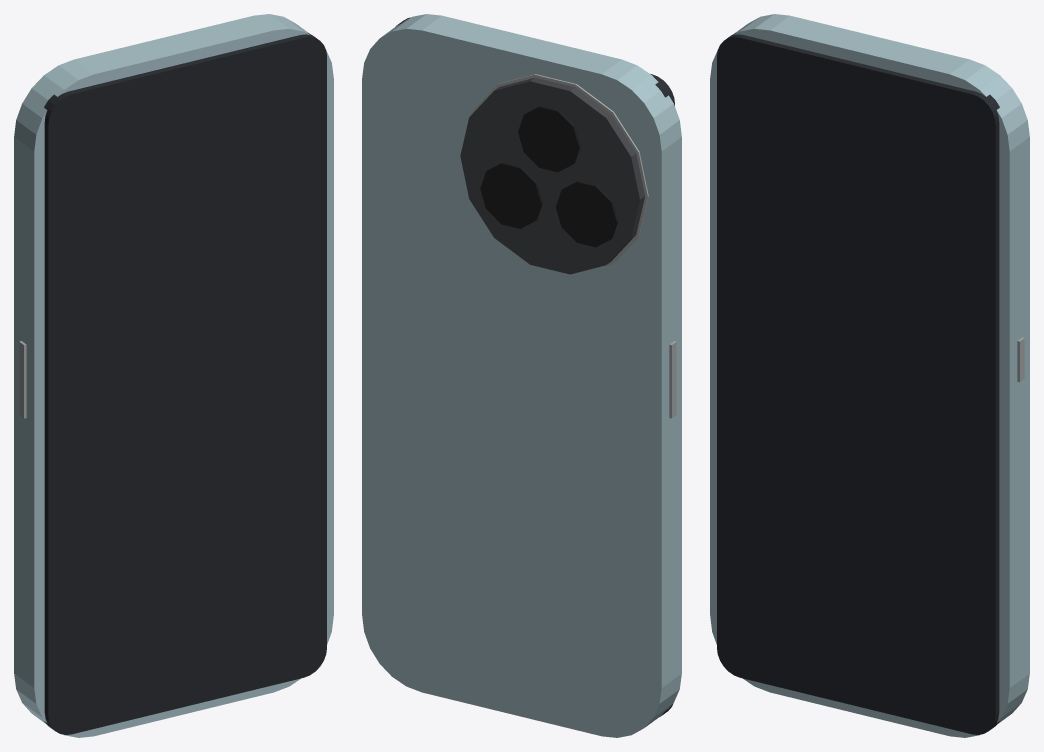
The model's file is 32_honor_magic8_pro.glb.
3 views of the same model, side by side, from view 1: azimuth 30°, elevation 25°; view 2: azimuth 150°, elevation 25°; view 3: azimuth 330°, elevation 25° (orthographic).
Parts seen in each view (by area): view 1: geometry_1, geometry_0, geometry_3; view 2: geometry_0, geometry_5, geometry_11, geometry_9, geometry_7, geometry_6, geometry_3; view 3: geometry_1, geometry_0.
Boxes of the visible parts, left/top/right/bottom form: geometry_1: left=44, top=33, right=326, bottom=734; geometry_0: left=14, top=14, right=333, bottom=737; geometry_3: left=19, top=341, right=26, bottom=418; geometry_0: left=362, top=14, right=681, bottom=737; geometry_5: left=460, top=77, right=644, bottom=274; geometry_11: left=480, top=162, right=542, bottom=228; geometry_9: left=555, top=181, right=618, bottom=247; geometry_7: left=518, top=106, right=580, bottom=172; geometry_6: left=471, top=74, right=648, bottom=273; geometry_3: left=669, top=341, right=676, bottom=418; geometry_1: left=717, top=33, right=999, bottom=734; geometry_0: left=710, top=14, right=1029, bottom=737.
Bounding box in the file's own units: 0.25 × 0.5218 × 0.0449.
